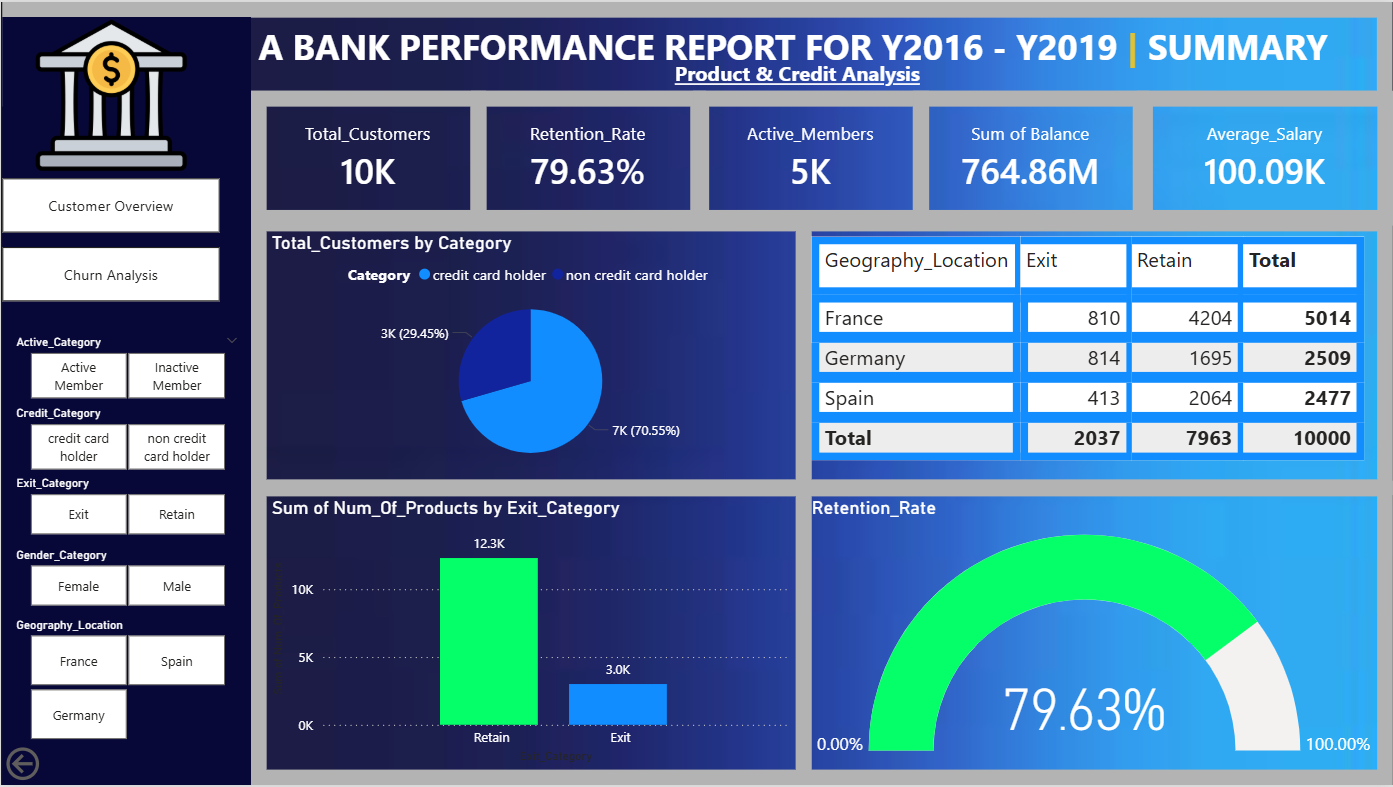

The page's visual inventory and layout, read from the dashboard file:
{"tool":"powerbi","page":{"name":"Product & Credit Analysis","canvas":[1280,720],"ordinal":2},"visuals":[{"type":"textbox","box":[1.2,0,1278.8,96.2],"z":0},{"type":"shape","box":[1.2,13.8,228.8,706.2],"z":1000},{"type":"slicer","fields":{"Values":["Active_Customer.Active_Category"]},"box":[1.2,301.2,228.8,65],"z":2000},{"type":"slicer","fields":{"Values":["Credit_Card.Category"]},"box":[1.2,366.2,228.8,65],"z":3000},{"type":"slicer","fields":{"Values":["Exit_Customer.Exit_Category"]},"box":[1.2,431.2,228.8,65],"z":4000},{"type":"slicer","fields":{"Values":["Gender.Gender_Category"]},"box":[1.2,496.2,228.8,65],"z":5000},{"type":"slicer","fields":{"Values":["Geography.Geography_Location"]},"box":[1.2,561.2,228.8,123.8],"z":6000},{"type":"image","box":[22.5,13.8,156.2,143.8],"z":7000},{"type":"cardVisual","fields":{"Data":["Bank_Churn.Total_Customers"]},"box":[230,81.2,216.2,123.8],"z":8000},{"type":"cardVisual","fields":{"Data":["Bank_Churn.Retention_Rate"]},"box":[432.5,81.2,216.2,123.8],"z":9000},{"type":"cardVisual","fields":{"Data":["Bank_Churn.Active_Members"]},"box":[636.2,81.2,216.2,123.8],"z":10000},{"type":"cardVisual","fields":{"Data":["Sum(Bank_Churn.Balance)"]},"box":[838.8,81.2,216.2,123.8],"z":11000},{"type":"cardVisual","fields":{"Data":["Bank_Churn.Average_Salary"]},"box":[1045,81.2,235,123.8],"z":12000},{"type":"pageNavigator","box":[1.2,162.5,200,50],"z":13000},{"type":"pageNavigator","box":[1.2,225,200,50],"z":14000},{"type":"pieChart","fields":{"Category":["Credit_Card.Category"],"Y":["Bank_Churn.Total_Customers"]},"box":[230,196.7,515.6,256.7],"z":15000},{"type":"clusteredColumnChart","fields":{"Y":["Sum(Bank_Churn.Num_Of_Products)"],"Category":["Exit_Customer.Exit_Category"]},"box":[230,440,515,280],"z":16000},{"type":"pivotTable","fields":{"Rows":["Geography.Geography_Location"],"Columns":["Exit_Customer.Exit_Category"],"Values":["CountNonNull(Bank_Churn.Exit_ID)"]},"box":[731.1,196.7,548.9,256.7],"z":17000},{"type":"gauge","fields":{"Y":["Bank_Churn.Retention_Rate"]},"box":[731.1,440,548.9,280],"z":18000},{"type":"actionButton","box":[0,680,100,40],"z":19000},{"type":"textbox","box":[533.3,47.8,397.8,41.1],"z":20000}]}

Visuals, with their boxes in screenshot pixels (x1, y1, x2, y2), scaled from the page's 1280x720 canvas onto the 1393x787 screenshot:
textbox: pyautogui.locateOnScreen(1, 0, 1392, 105)
shape: pyautogui.locateOnScreen(1, 15, 250, 786)
slicer - Active_Customer.Active_Category: pyautogui.locateOnScreen(1, 329, 250, 400)
slicer - Credit_Card.Category: pyautogui.locateOnScreen(1, 400, 250, 471)
slicer - Exit_Customer.Exit_Category: pyautogui.locateOnScreen(1, 471, 250, 542)
slicer - Gender.Gender_Category: pyautogui.locateOnScreen(1, 542, 250, 613)
slicer - Geography.Geography_Location: pyautogui.locateOnScreen(1, 613, 250, 749)
image: pyautogui.locateOnScreen(24, 15, 194, 172)
cardVisual - Bank_Churn.Total_Customers: pyautogui.locateOnScreen(250, 89, 486, 224)
cardVisual - Bank_Churn.Retention_Rate: pyautogui.locateOnScreen(471, 89, 706, 224)
cardVisual - Bank_Churn.Active_Members: pyautogui.locateOnScreen(692, 89, 928, 224)
cardVisual - Sum(Bank_Churn.Balance): pyautogui.locateOnScreen(913, 89, 1148, 224)
cardVisual - Bank_Churn.Average_Salary: pyautogui.locateOnScreen(1137, 89, 1392, 224)
pageNavigator: pyautogui.locateOnScreen(1, 178, 219, 232)
pageNavigator: pyautogui.locateOnScreen(1, 246, 219, 301)
pieChart - Credit_Card.Category x Bank_Churn.Total_Customers: pyautogui.locateOnScreen(250, 215, 811, 496)
clusteredColumnChart - Sum(Bank_Churn.Num_Of_Products) x Exit_Customer.Exit_Category: pyautogui.locateOnScreen(250, 481, 811, 786)
pivotTable - Geography.Geography_Location x Exit_Customer.Exit_Category: pyautogui.locateOnScreen(796, 215, 1392, 496)
gauge - Bank_Churn.Retention_Rate: pyautogui.locateOnScreen(796, 481, 1392, 786)
actionButton: pyautogui.locateOnScreen(0, 743, 109, 786)
textbox: pyautogui.locateOnScreen(580, 52, 1013, 97)
